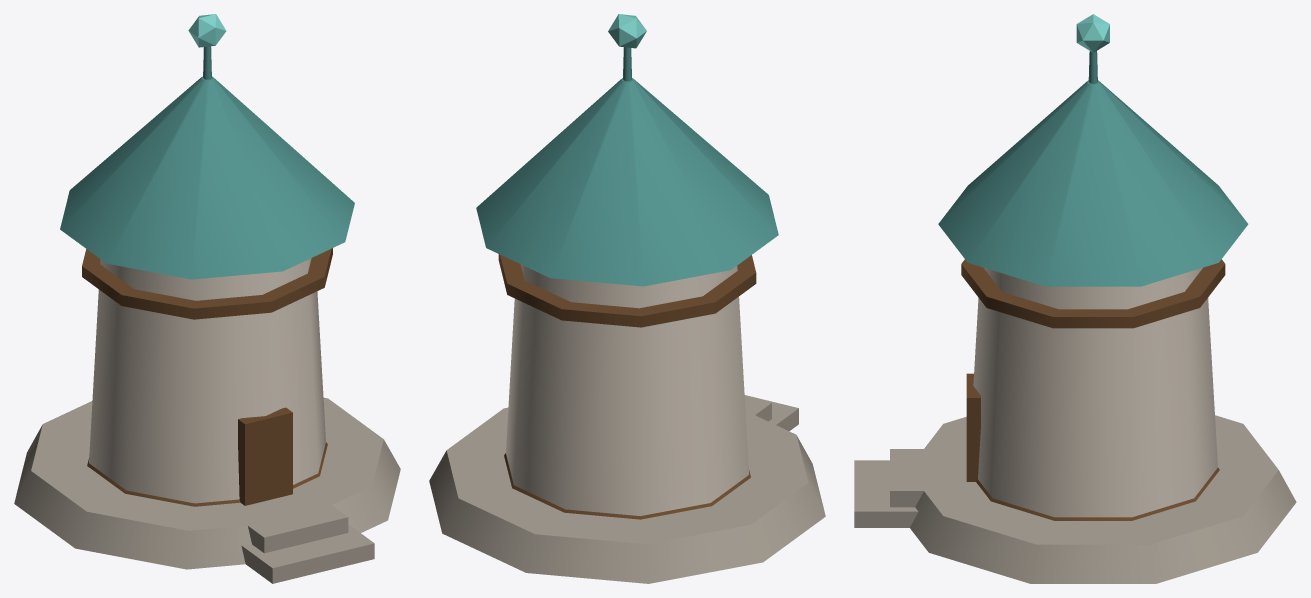
Rendered from station-standin.glb.
3 renders of one model, left to right at view 1: azimuth 30°, elevation 25°; view 2: azimuth 150°, elevation 25°; view 3: azimuth 270°, elevation 25°, orthographic. The views are drawn at different scales.
Visible parts, largest first — view 1: plaster, roof, stone, wooddark, accent; view 2: plaster, roof, stone, wooddark, accent; view 3: plaster, roof, stone, wooddark, accent.
Boxes of the visible parts, x1,y1,x2,y2 form: plaster: [89, 258, 325, 503]; roof: [60, 46, 354, 279]; stone: [14, 397, 400, 583]; wooddark: [82, 248, 332, 506]; accent: [188, 14, 226, 47]; plaster: [506, 264, 748, 515]; roof: [476, 47, 778, 286]; stone: [429, 395, 825, 583]; wooddark: [498, 254, 756, 519]; accent: [608, 14, 646, 48]; plaster: [973, 267, 1217, 517]; roof: [938, 51, 1248, 286]; stone: [854, 415, 1296, 583]; wooddark: [961, 259, 1225, 520]; accent: [1076, 14, 1109, 52].
Bounding box in the file's own units: 10.84 × 14.97 × 12.4.
